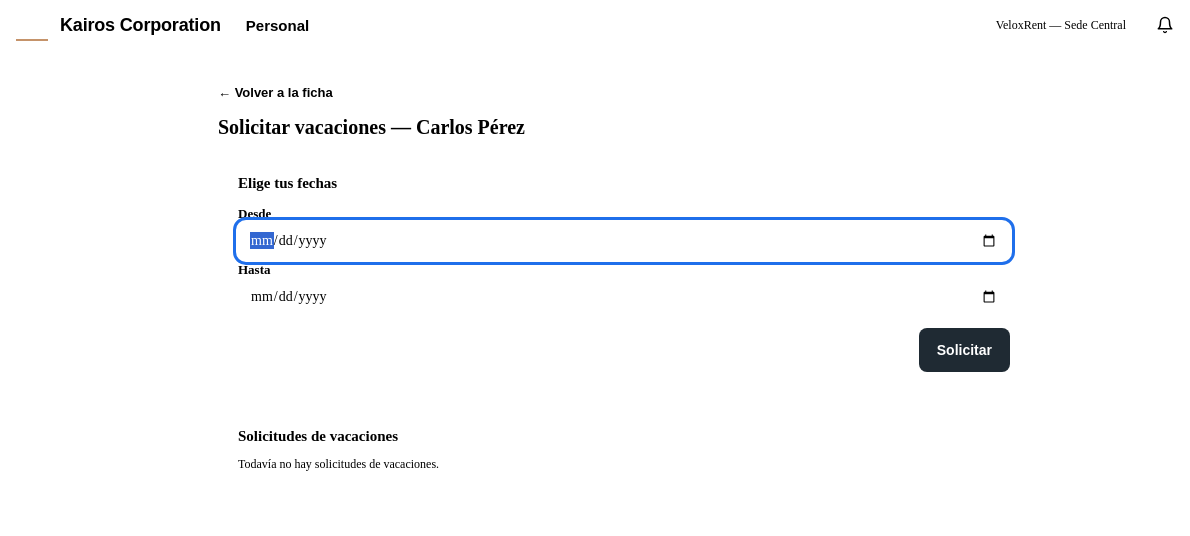
Scenario: VacationScreen (ADP-05) › sin superposicion permite solicitar
In the date field labelled "Desde": (624, 241) [238,222,1010,260], type "2026-12-01"
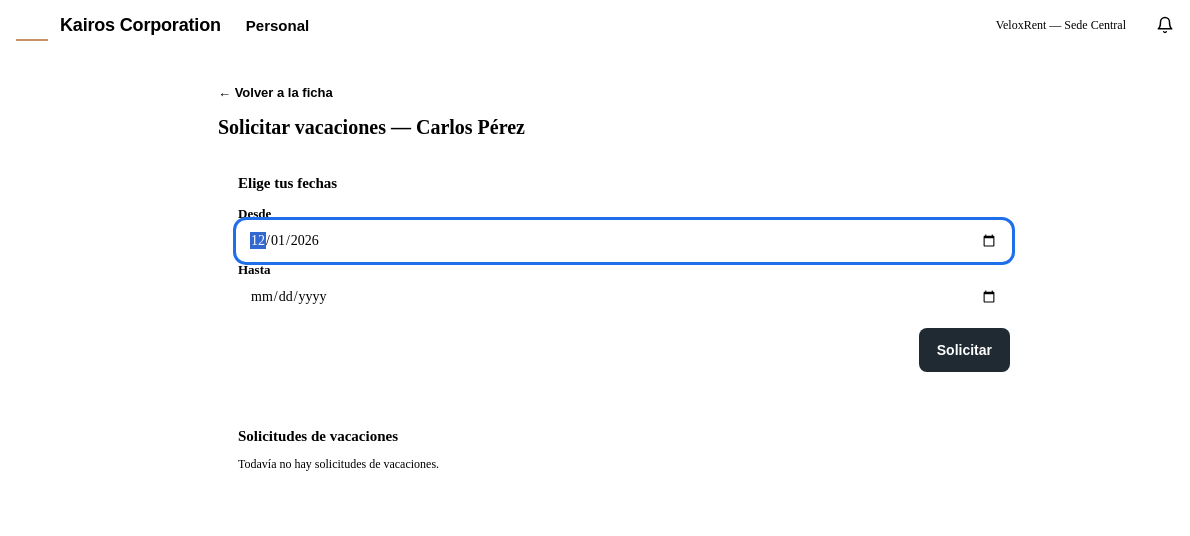
In the date field labelled "Hasta": (624, 297) [238,278,1010,316], type "2026-12-10"
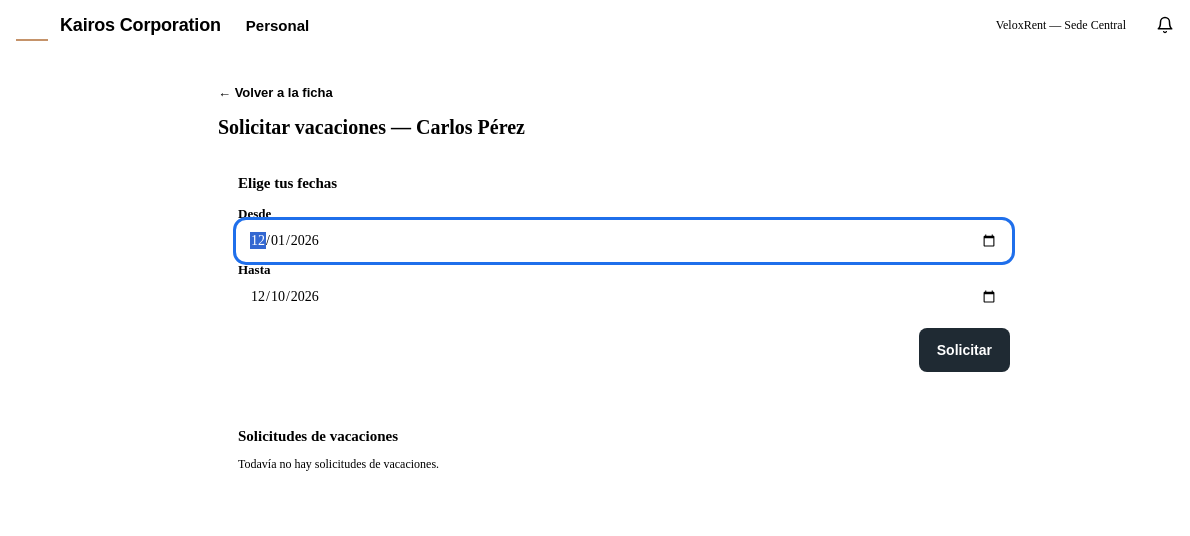
Click the button "Solicitar": click(964, 350) [919,328,1010,372]
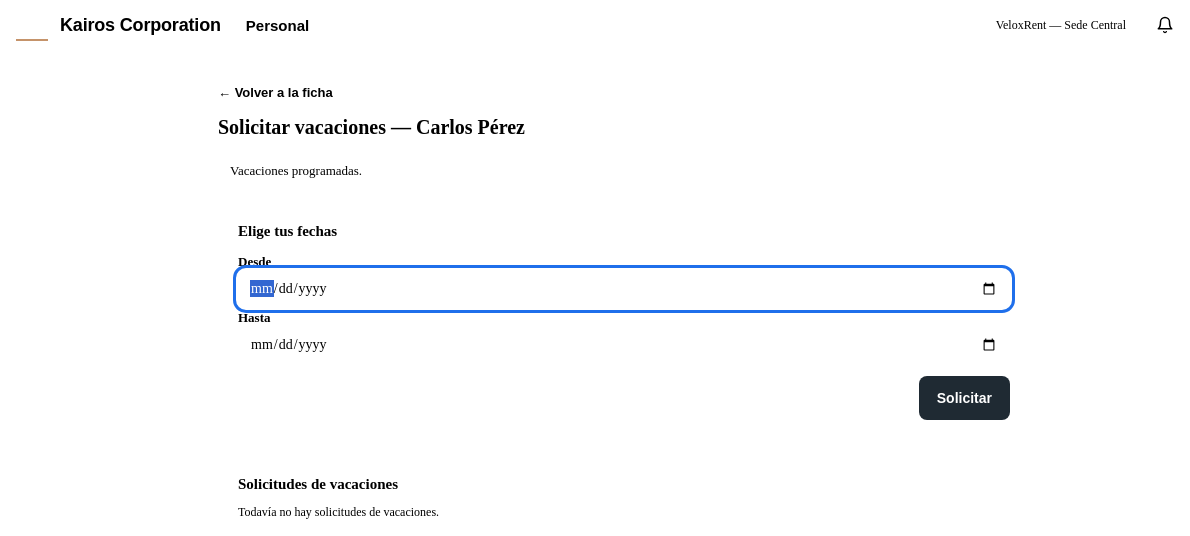
Expected: the text "Vacaciones programadas." is shown, [230,163,362,178]
